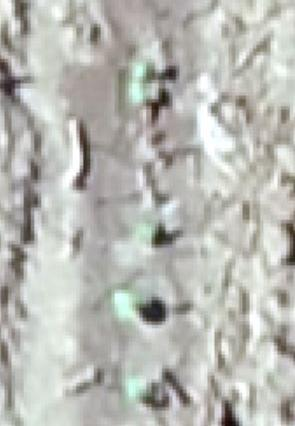cotton: (113, 291, 137, 315), (132, 64, 147, 102), (126, 375, 147, 401), (136, 219, 155, 243)
